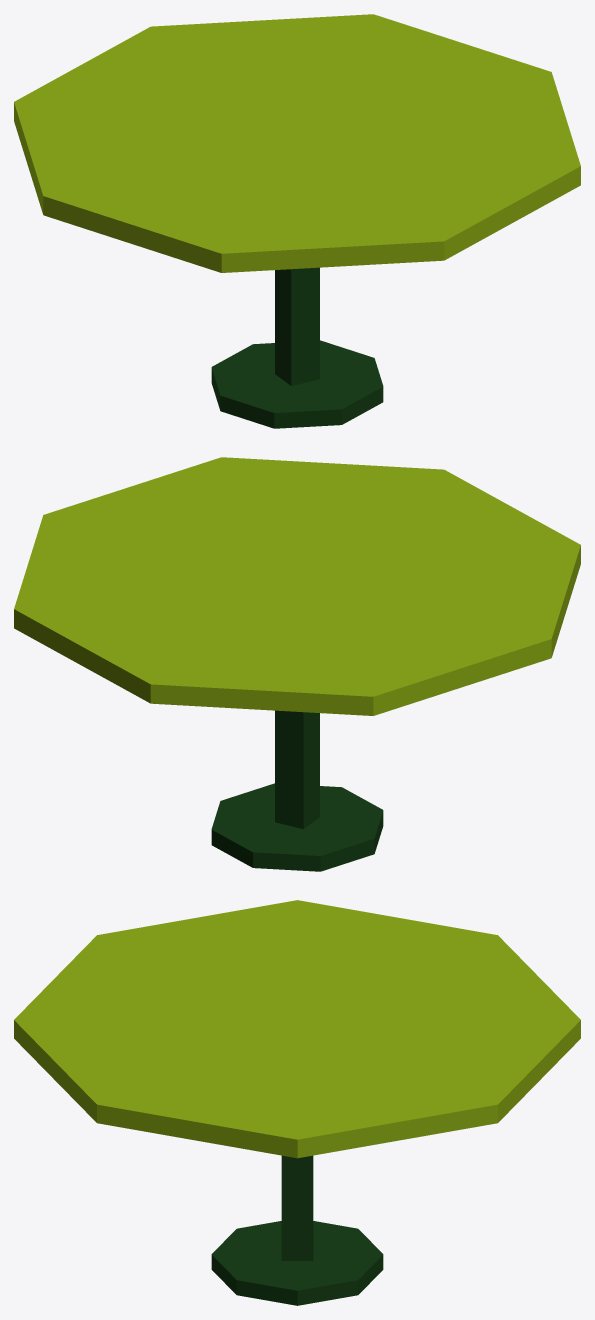
The model's file is table-small.obj.
3 renders of one model, top to bottom at view 1: azimuth 30°, elevation 25°; view 2: azimuth 150°, elevation 25°; view 3: azimuth 270°, elevation 25°, orthographic. The views are drawn at different scales.
Parts seen in each view (by area): view 1: Cube; view 2: Cube; view 3: Cube.
Part boxes in pixels (x1=…): Cube: x1=14, y1=14, x2=580, y2=428; Cube: x1=14, y1=457, x2=580, y2=871; Cube: x1=14, y1=900, x2=580, y2=1305.
Size of the model in its own units: 0.6593 by 0.3203 by 0.6593.
